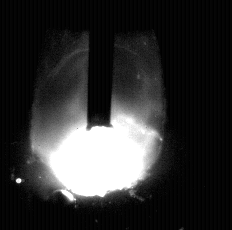arame: (88, 0, 113, 127)
poca: (30, 0, 163, 230)
